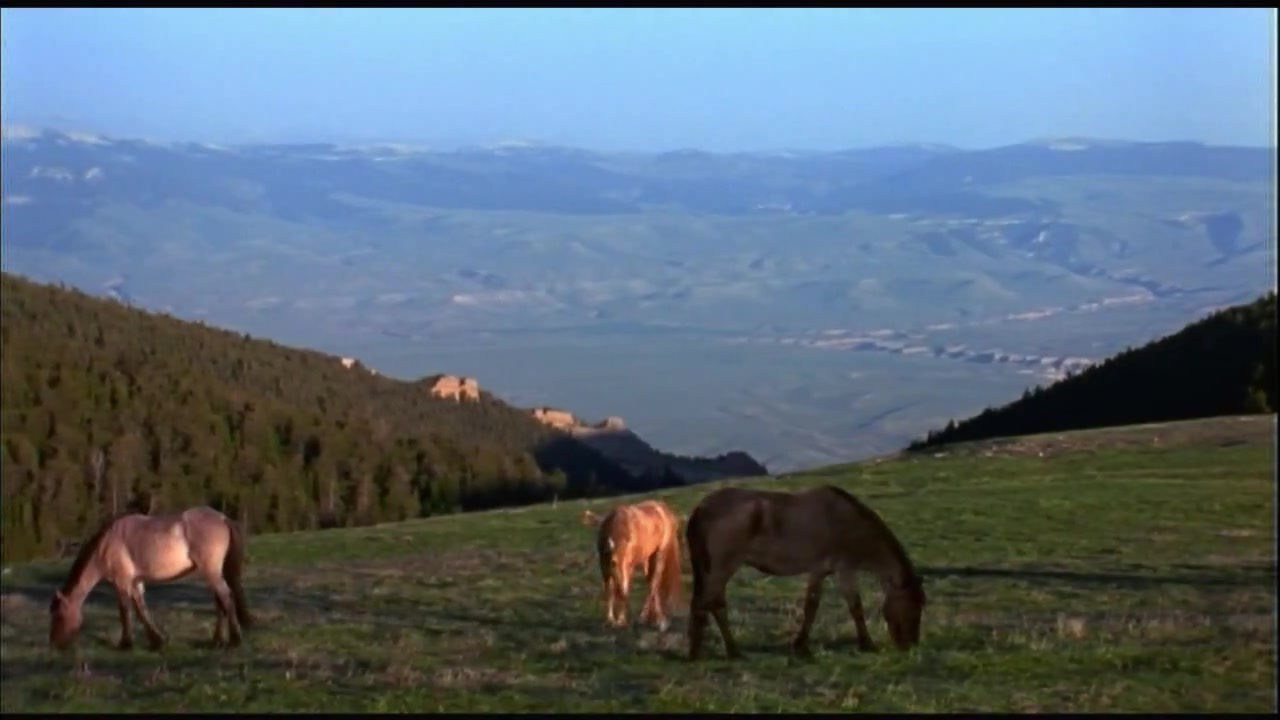horse: (681, 484, 928, 662)
